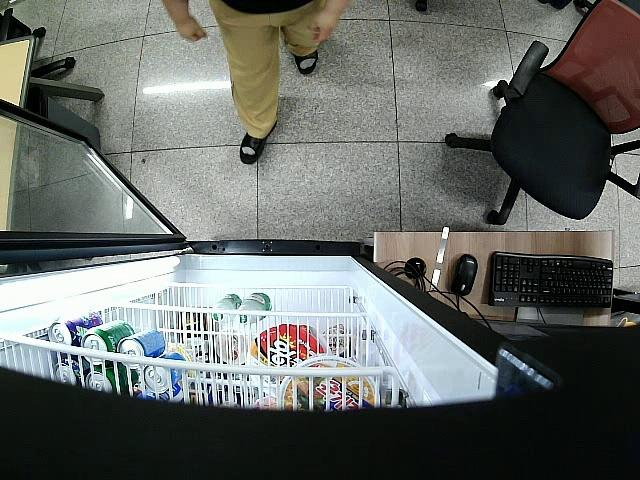00_hand: (171, 13, 209, 46), (310, 7, 341, 46)
